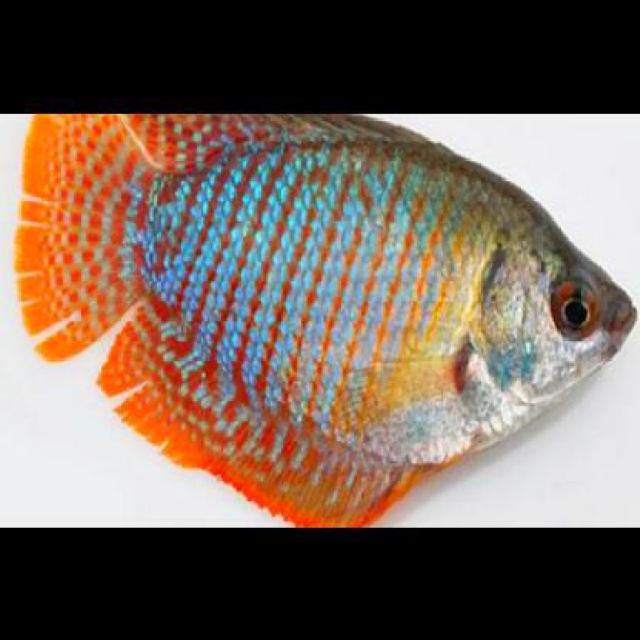Gourami: (14, 112, 638, 526)
